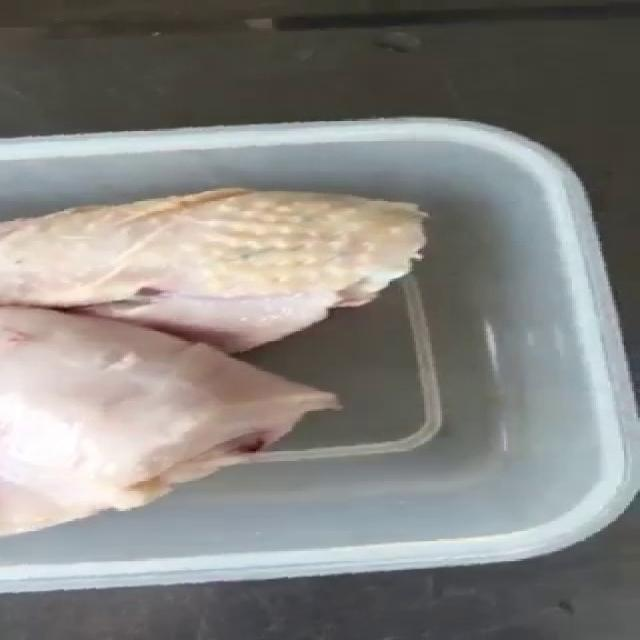chicken: (0, 186, 430, 554)
